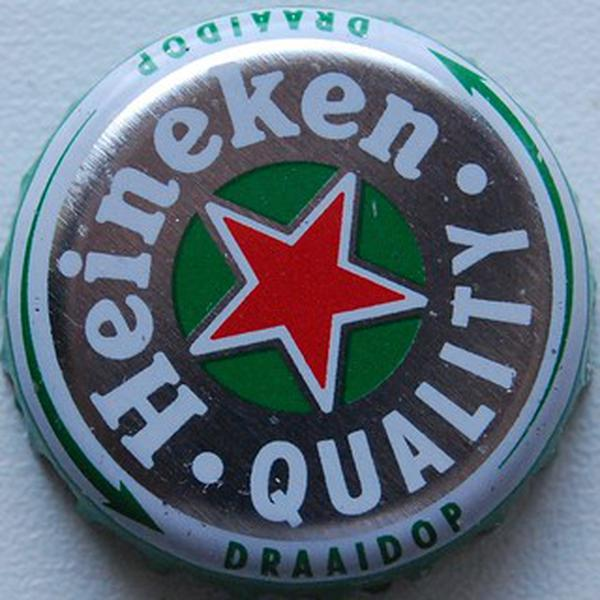heineken: (1, 4, 597, 598)
